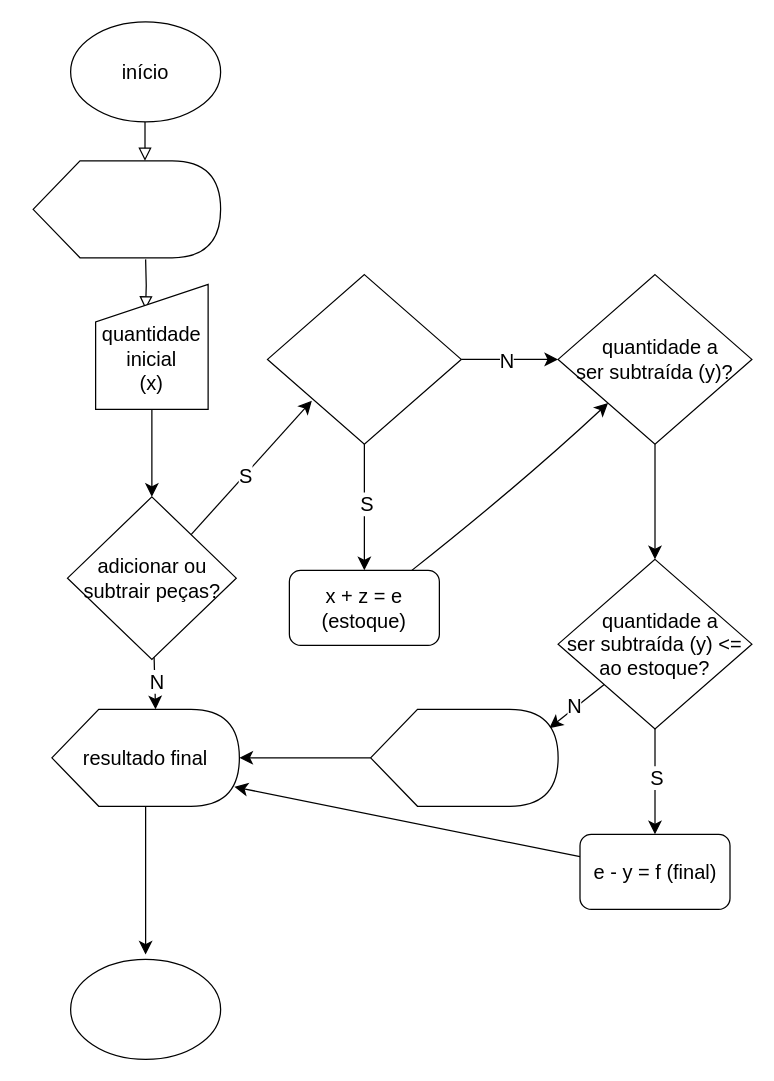
This 774x1081 diagram has some shape labels left out. The shapes that lost their labels are listed below. From the top down, each one's box as (x1, y1, x2, y2) in pixels, then its label:
(32, 160, 221, 258): quantidade inicial de peças
(266, 273, 461, 444): quantidade a ser somada (z)?
(369, 708, 558, 806): estoque insuficiente
(69, 958, 221, 1059): fim
